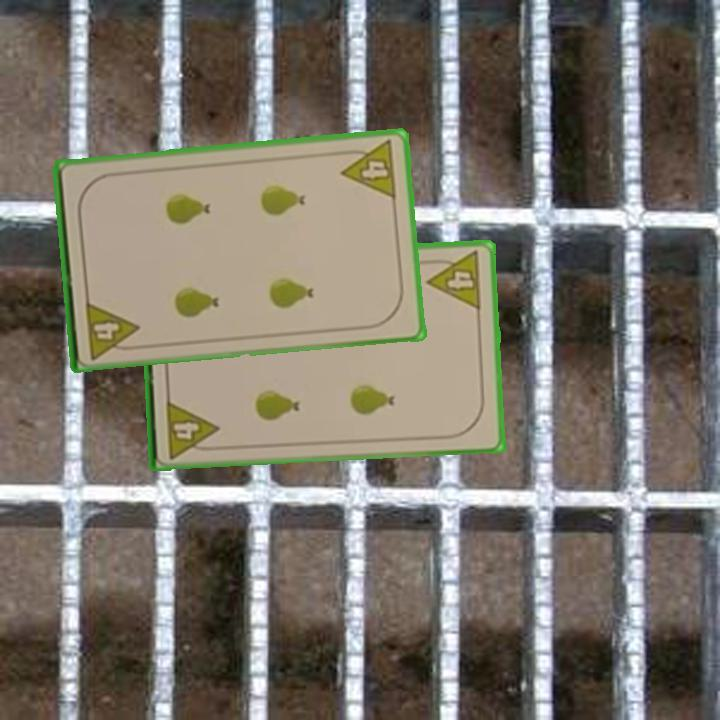4p: (336, 137, 400, 202), (423, 248, 484, 313), (82, 297, 143, 362), (162, 396, 222, 461)
